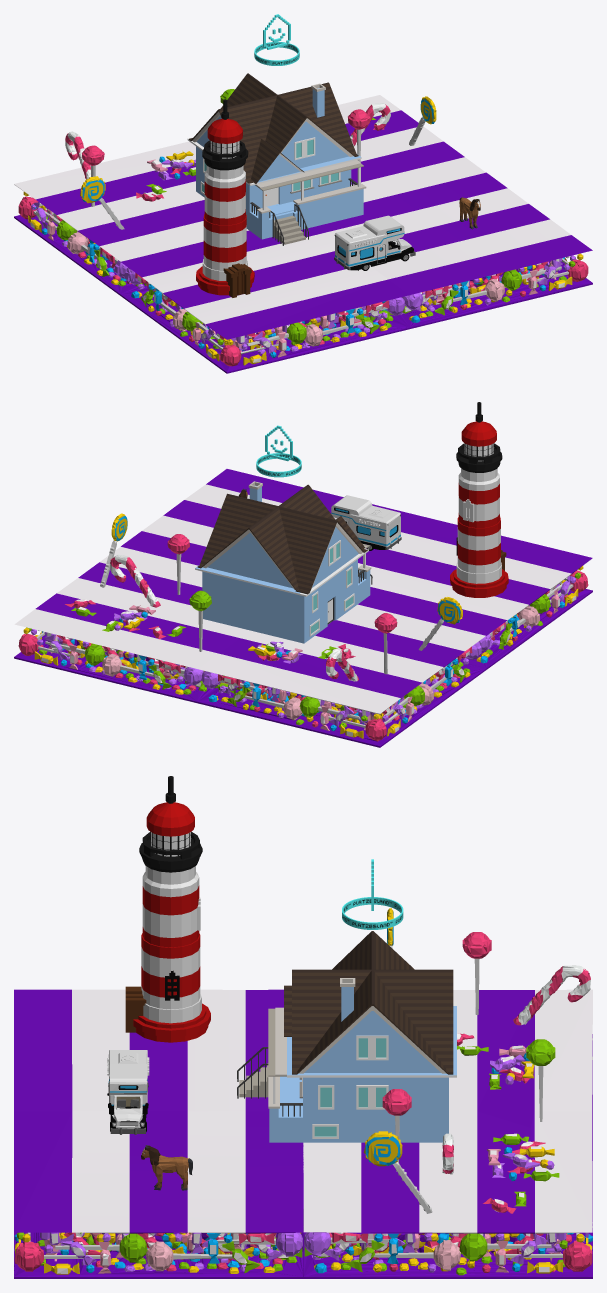
3 renders of one model, top to bottom at view 1: azimuth 30°, elevation 25°; view 2: azimuth 150°, elevation 25°; view 3: azimuth 270°, elevation 25°, orthographic. The views are drawn at different scales.
Visible parts, largest first — view 1: TERRAIN_CANDY, Cube.1594, OBJRANDOM_LIGHTHOUSE, VEHICLES_CAMPER, TYPE_PREMIUM, ANIMAL_CABALLO; view 2: TERRAIN_CANDY, Cube.1594, OBJRANDOM_LIGHTHOUSE, VEHICLES_CAMPER, TYPE_PREMIUM; view 3: TERRAIN_CANDY, Cube.1594, OBJRANDOM_LIGHTHOUSE, VEHICLES_CAMPER, TYPE_PREMIUM, ANIMAL_CABALLO.
Part boxes in pixels (x1=…): TERRAIN_CANDY: x1=14, y1=89, x2=592, y2=373; Cube.1594: x1=187, y1=73, x2=366, y2=245; OBJRANDOM_LIGHTHOUSE: x1=196, y1=99, x2=254, y2=297; VEHICLES_CAMPER: x1=334, y1=215, x2=415, y2=270; TYPE_PREMIUM: x1=254, y1=14, x2=299, y2=65; ANIMAL_CABALLO: x1=459, y1=197, x2=480, y2=229; TERRAIN_CANDY: x1=14, y1=469, x2=592, y2=747; Cube.1594: x1=195, y1=481, x2=372, y2=643; OBJRANDOM_LIGHTHOUSE: x1=450, y1=402, x2=508, y2=597; VEHICLES_CAMPER: x1=331, y1=495, x2=401, y2=550; TYPE_PREMIUM: x1=256, y1=425, x2=301, y2=477; TERRAIN_CANDY: x1=14, y1=908, x2=592, y2=1278; Cube.1594: x1=237, y1=931, x2=456, y2=1142; OBJRANDOM_LIGHTHOUSE: x1=125, y1=776, x2=210, y2=1042; VEHICLES_CAMPER: x1=107, y1=1050, x2=149, y2=1134; TYPE_PREMIUM: x1=342, y1=859, x2=403, y2=929; ANIMAL_CABALLO: x1=141, y1=1145, x2=192, y2=1190.
Bounding box in the file's own units: 4059 × 2491 × 4000.
Materials: 37 (3 with a texture image).
